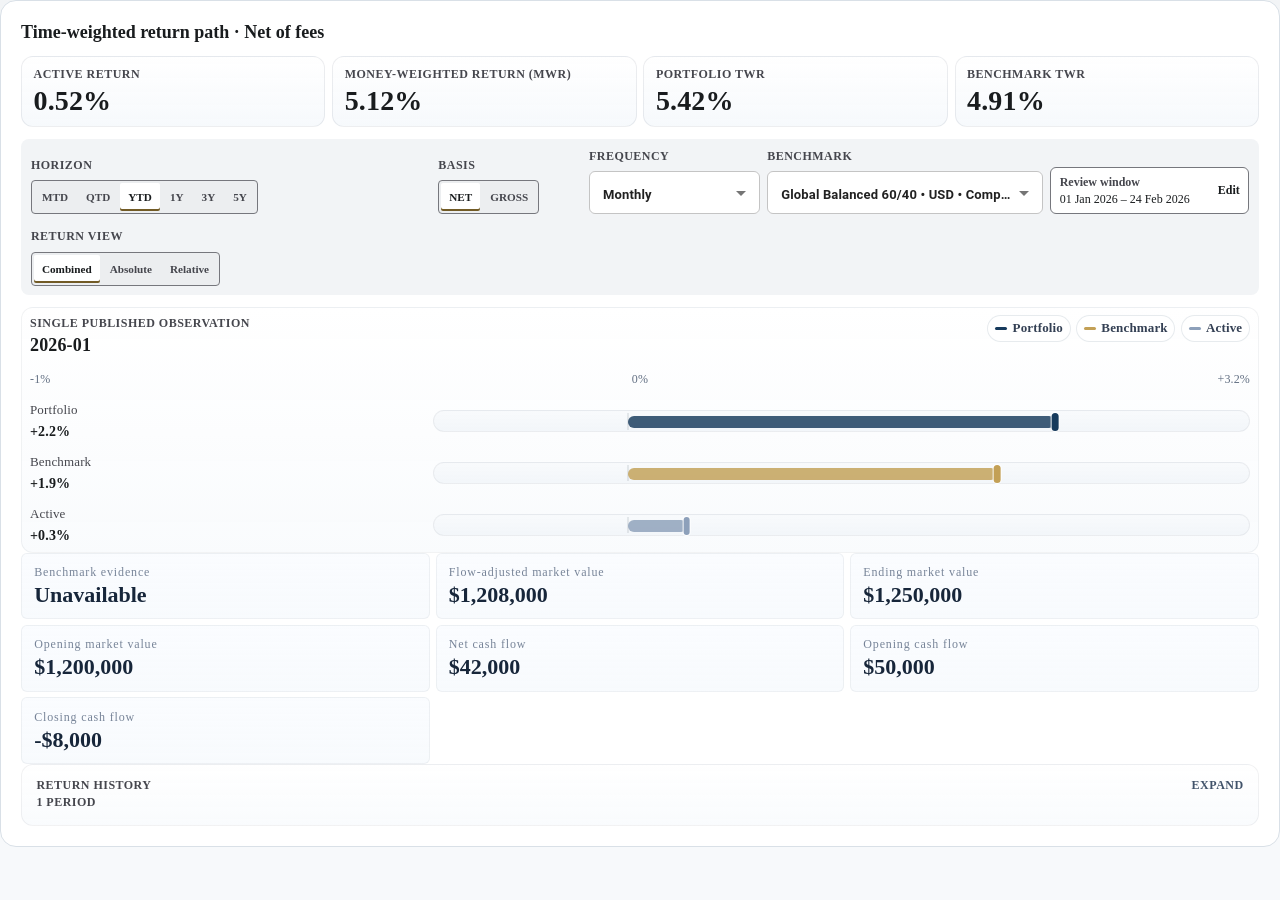
Scenario: PerformanceChartPanel › exposes metric definitions through executive strip tooltips instead of inline copy
The image size is (1280, 900).
Hover over the text "Money-weighted return (MWR)".
mouse_move(458, 74)  # box [345,67,571,81]
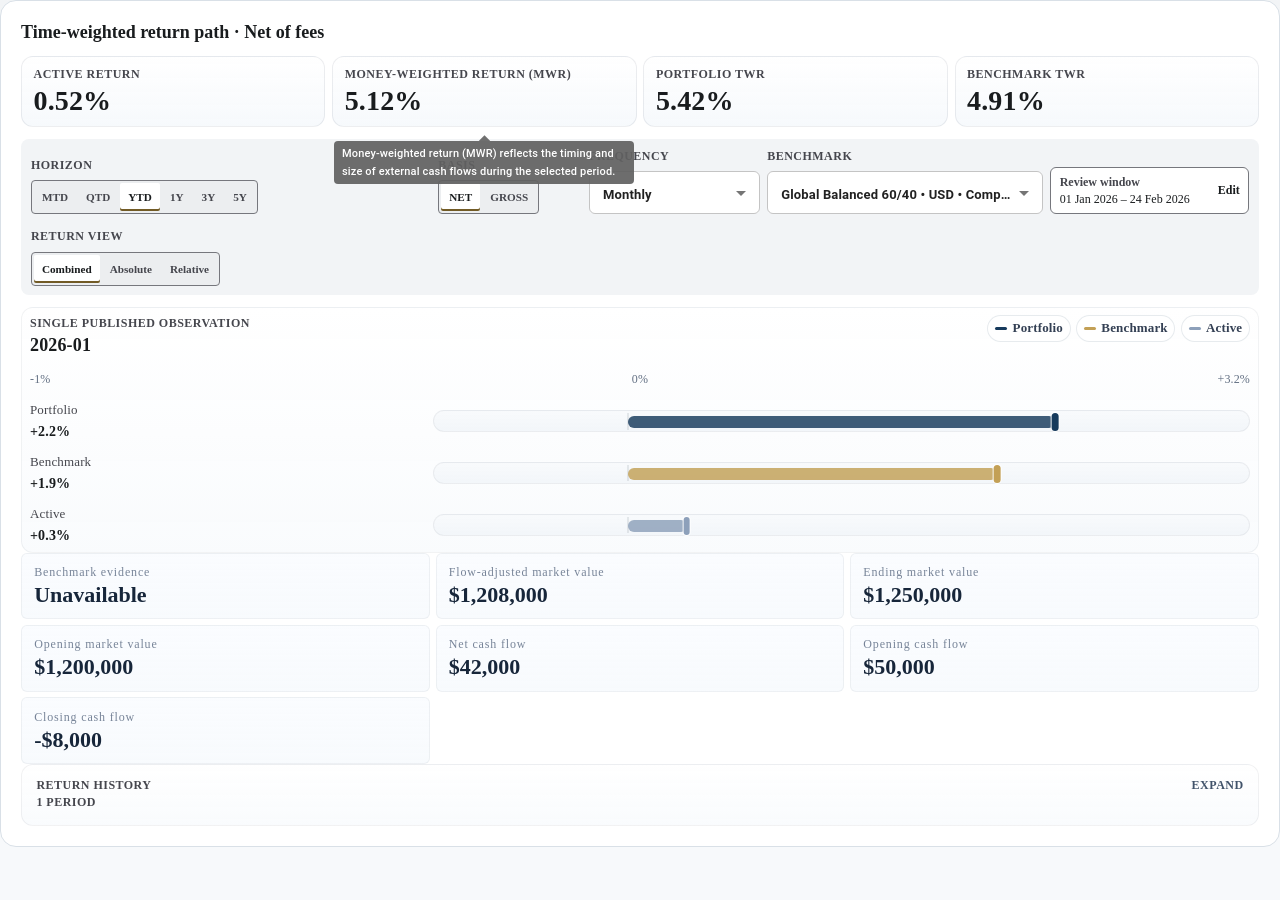
Check: the text "Money-weighted return (MWR) reflects the timing and size of external cash flows during the selected period." is shown, box [342,147,616,178]
